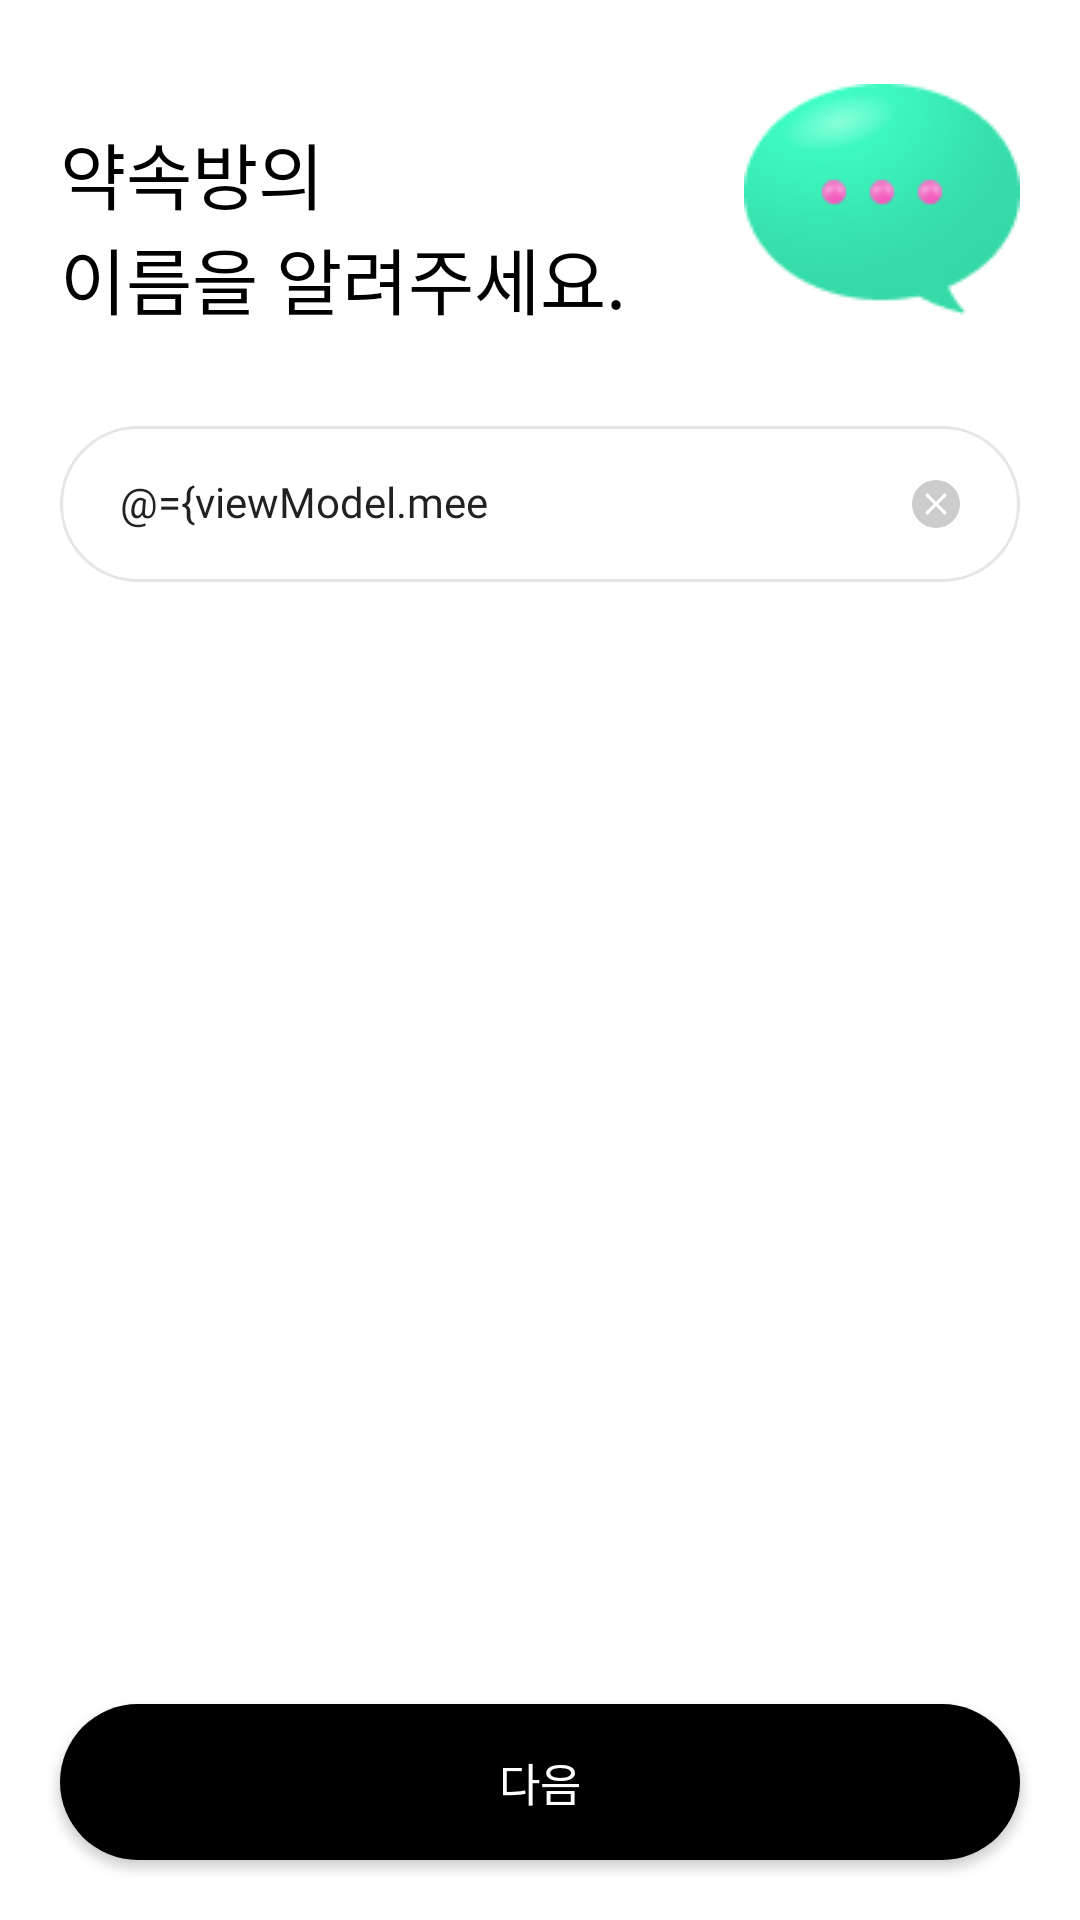

Icon bounding boxes for this 1080px x 1920px phone screenshot, format (x1, y1, x2, y2):
bubble: (744, 84, 1020, 315)
close: (912, 480, 960, 528)
